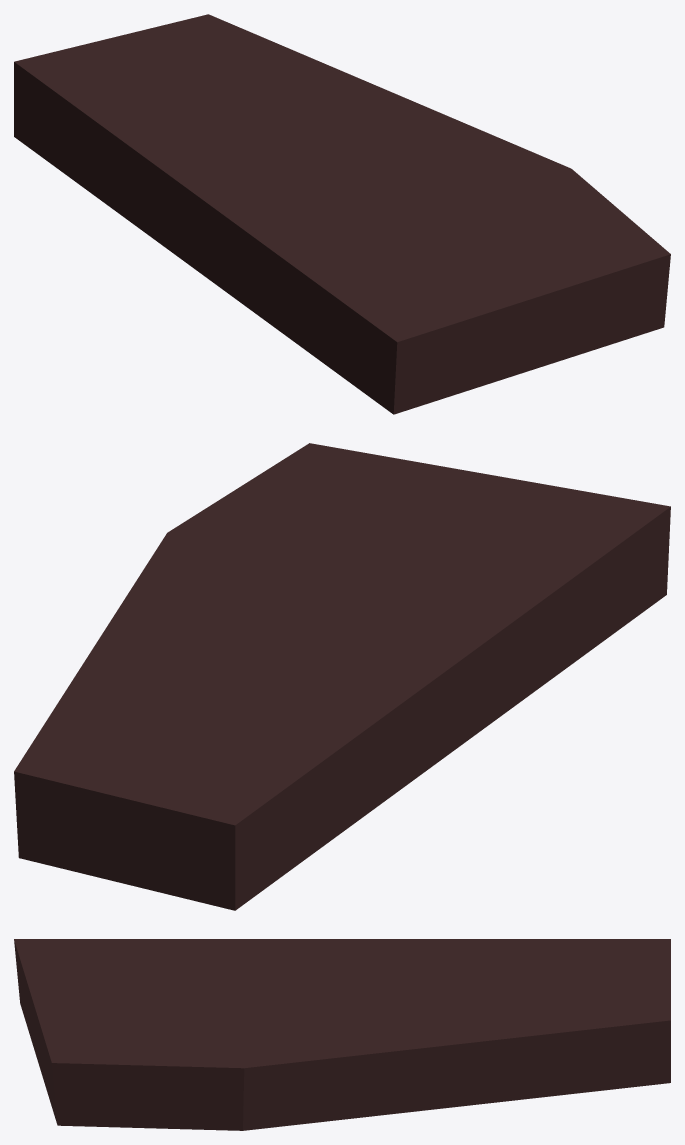
Rendered from T_SolDetruit_5.4.fbx.
3 views of the same model, one above another, from view 1: azimuth 30°, elevation 25°; view 2: azimuth 150°, elevation 25°; view 3: azimuth 270°, elevation 25° (orthographic). The views are drawn at different scales.
Parts seen in each view (by area): view 1: T_SolDetruit_5.4; view 2: T_SolDetruit_5.4; view 3: T_SolDetruit_5.4.
Boxes of the visible parts, bbox=[...] form: T_SolDetruit_5.4: bbox=[14, 14, 670, 414]; T_SolDetruit_5.4: bbox=[14, 443, 670, 910]; T_SolDetruit_5.4: bbox=[14, 939, 670, 1130].
Bounding box in the file's own units: 57.97 × 13.48 × 125.
